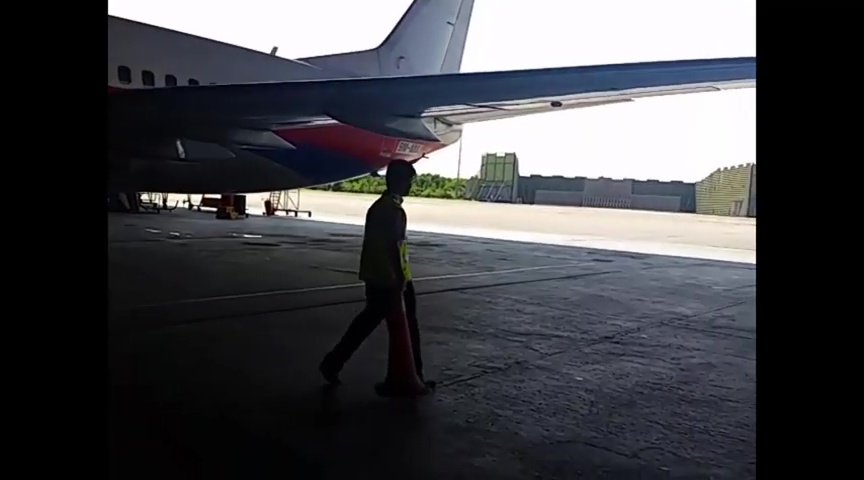safety_cone: (377, 306, 428, 398)
